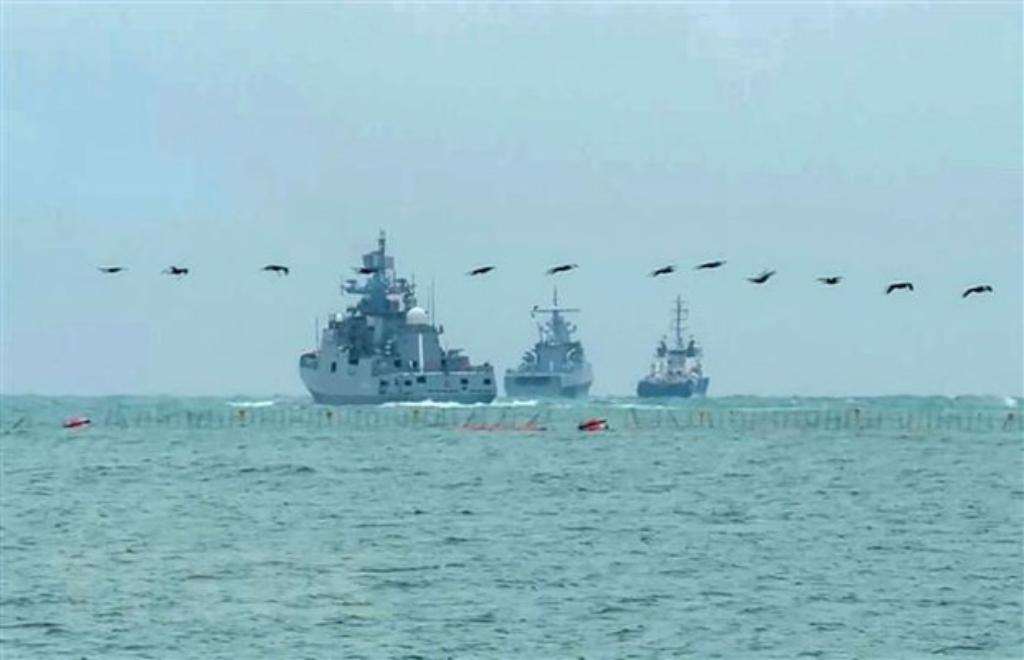Warship: (288, 221, 508, 409), (500, 282, 600, 406), (633, 291, 715, 403)
